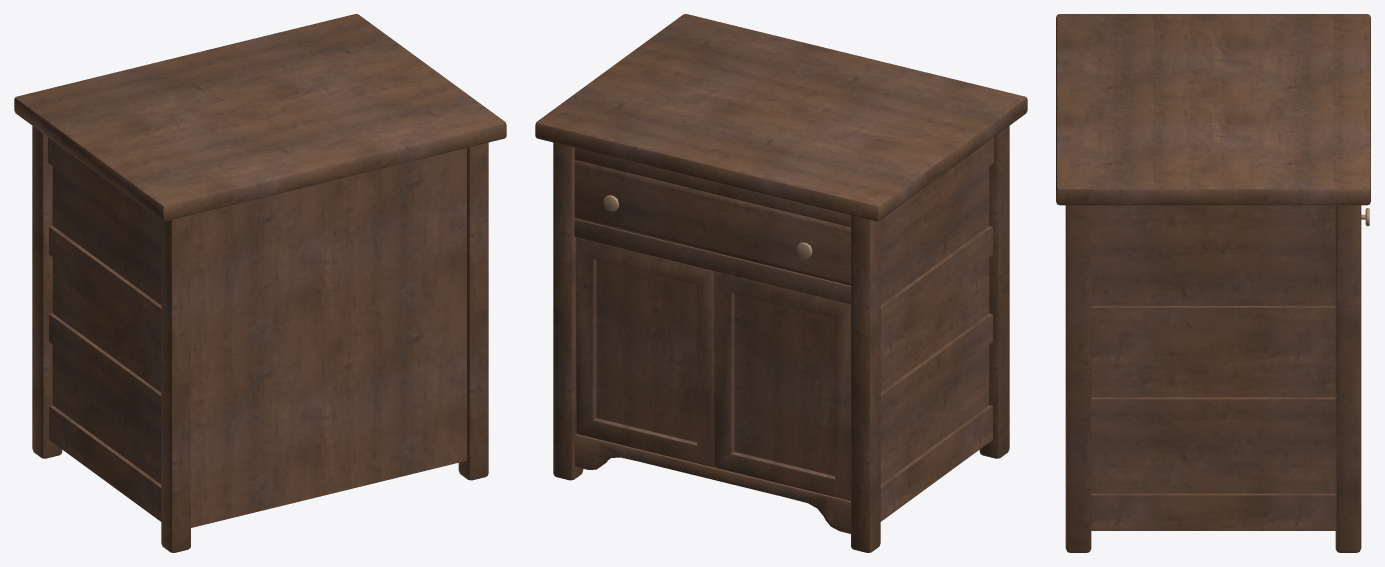
The model's file is vic_drawer1.glb.
3 views of the same model, side by side, from view 1: azimuth 30°, elevation 25°; view 2: azimuth 150°, elevation 25°; view 3: azimuth 270°, elevation 25° (orthographic). The views are drawn at different scales.
Parts seen in each view (by area): view 1: Object_2; view 2: Object_2; view 3: Object_2.
Part boxes in pixels (x1,y1,x2,y2): Object_2: (14,14,506,552); Object_2: (535,14,1027,552); Object_2: (1056,14,1370,552).
Bounding box in the file's own units: 4.63 × 4.57 × 3.5.
Materials: 1 (1 with a texture image).
